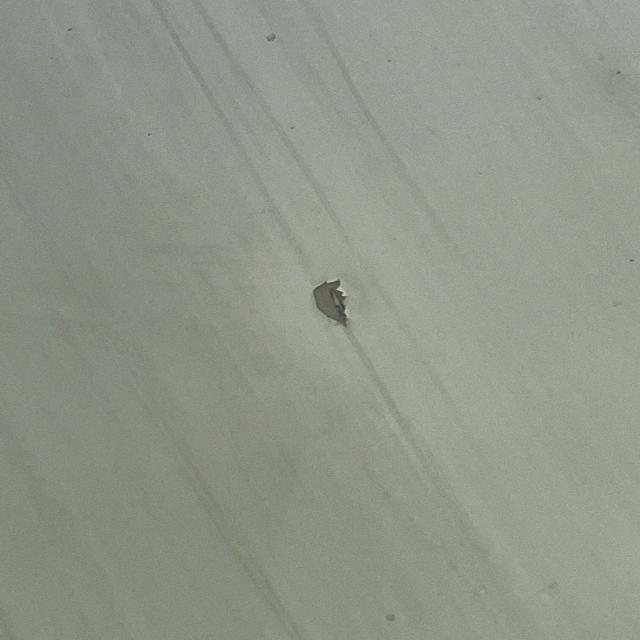crack: (304, 268, 382, 335)
